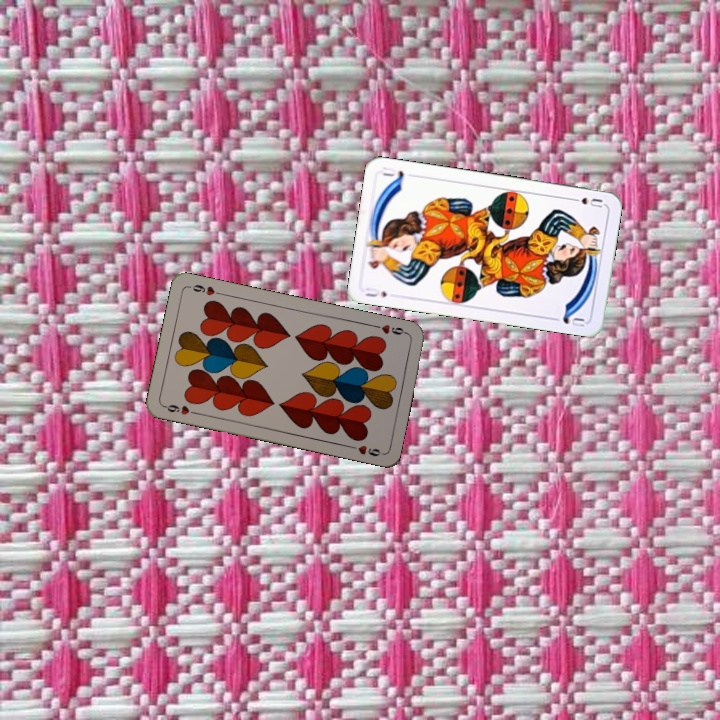H9: (160, 400, 200, 417), (370, 320, 410, 337)
SU: (566, 193, 605, 210), (361, 283, 389, 300)
